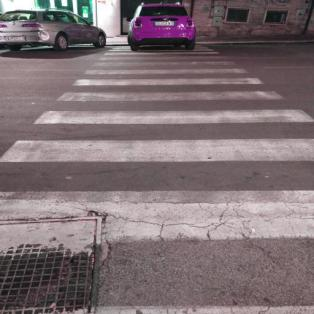Paso de Cebra: (0, 132, 313, 255), (51, 76, 290, 106)
